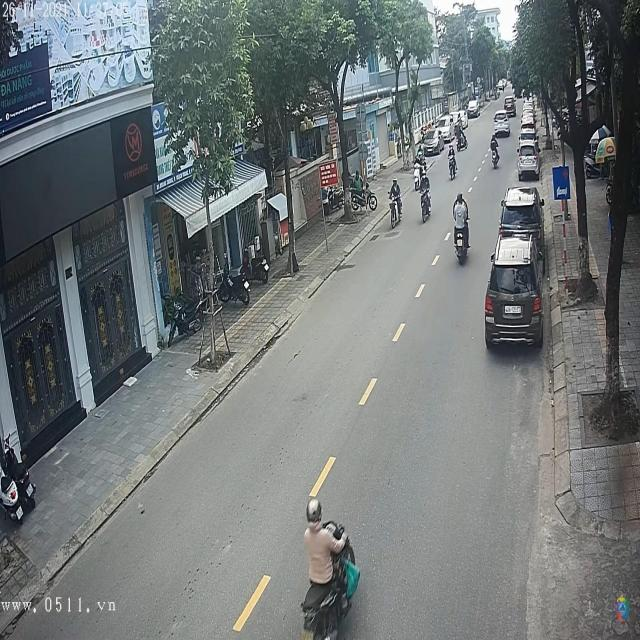car: (485, 243, 543, 351), (500, 186, 544, 242), (516, 146, 540, 182), (493, 115, 512, 137), (517, 130, 538, 149), (468, 98, 483, 118), (494, 125, 512, 139)
motorcycle: (301, 520, 357, 640), (453, 218, 470, 266), (419, 186, 434, 220), (389, 197, 404, 231), (446, 153, 458, 180)
